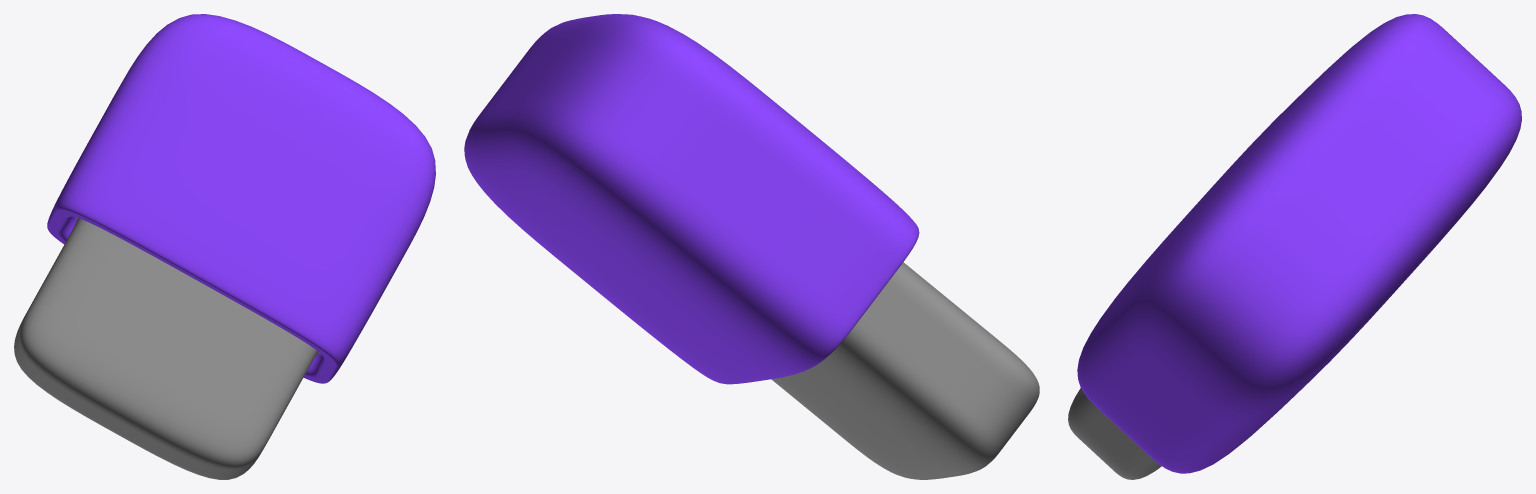
3 renders of one model, left to right at view 1: azimuth 30°, elevation 25°; view 2: azimuth 150°, elevation 25°; view 3: azimuth 270°, elevation 25°, orthographic. The views are drawn at different scales.
Visible parts, largest first — view 1: 8; view 2: 8; view 3: 8.
Part boxes in pixels (x1,y1,x2,y2): 8: [14, 14, 435, 479]; 8: [464, 14, 1039, 479]; 8: [1068, 14, 1521, 479].
Size of the model in its own units: 8.15 by 7.25 by 5.93.
